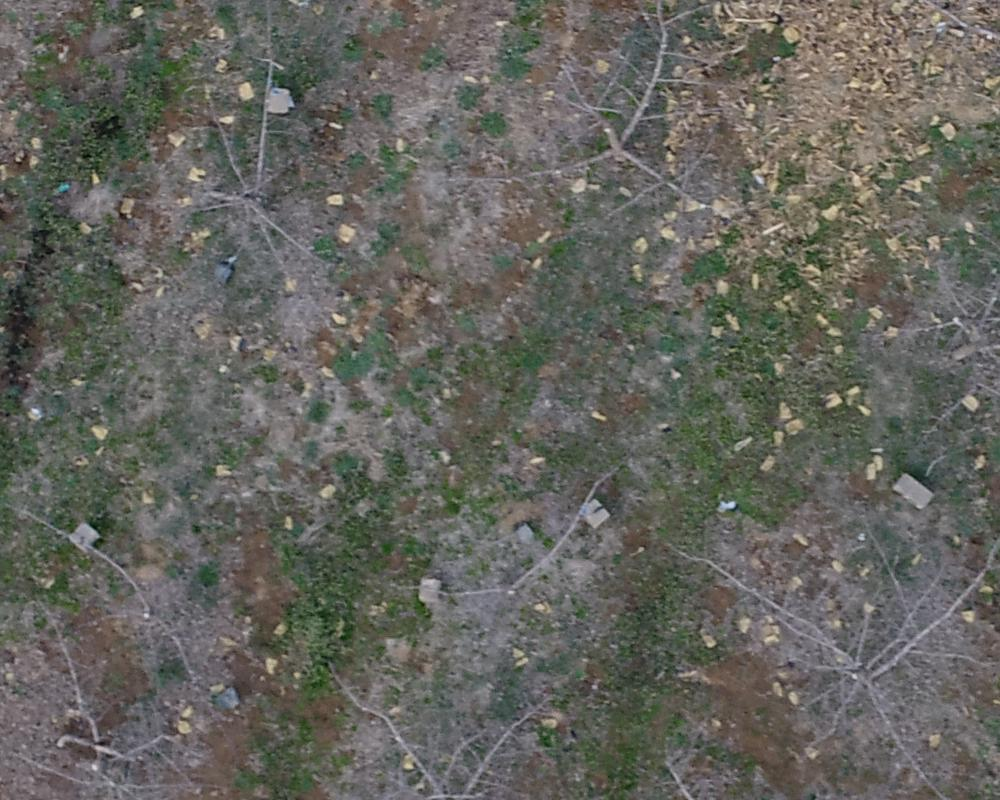apple: (666, 518, 990, 790), (493, 10, 774, 278), (149, 40, 338, 284), (813, 173, 990, 423), (269, 664, 604, 790), (10, 611, 214, 790)
